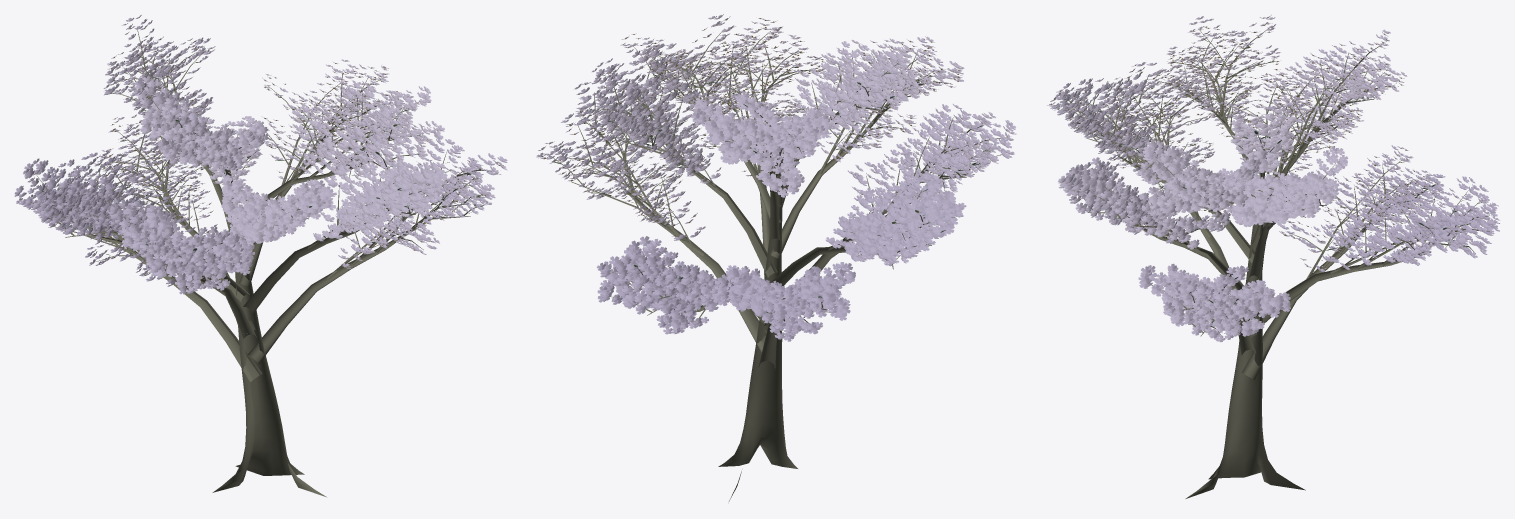
The picture shows the model from 3 angles, left to right: view 1: azimuth 30°, elevation 25°; view 2: azimuth 150°, elevation 25°; view 3: azimuth 270°, elevation 25°; orthographic projection. The views are drawn at different scales.
Parts seen in each view (by area): view 1: leaves, branches; view 2: leaves, branches; view 3: leaves, branches.
Part boxes in pixels (bbox=[...]): leaves: bbox=[14, 15, 507, 294]; branches: bbox=[31, 27, 497, 497]; leaves: bbox=[536, 14, 1016, 341]; branches: bbox=[548, 28, 1006, 501]; leaves: bbox=[1047, 15, 1499, 342]; branches: bbox=[1069, 28, 1489, 498].
Size of the model in its own units: 9.26 by 9.19 by 8.73.
